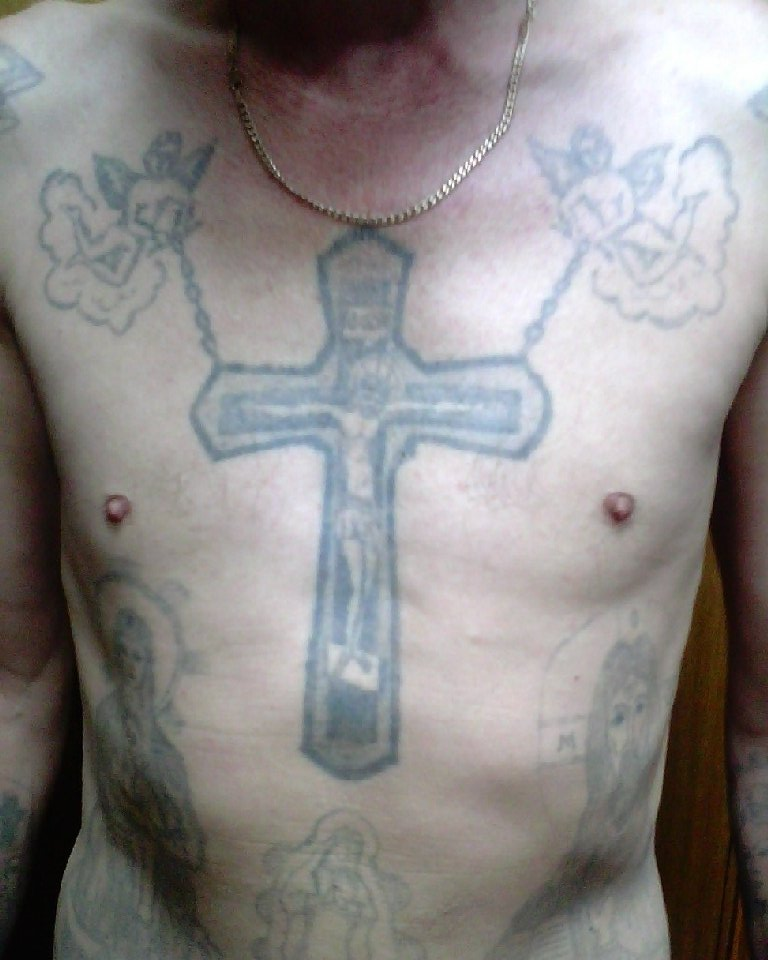tatu1_angel: (22, 127, 227, 329), (512, 118, 716, 318)
tatu2_bogorodica: (69, 552, 223, 949)
tatu9_krest: (198, 221, 542, 780)
